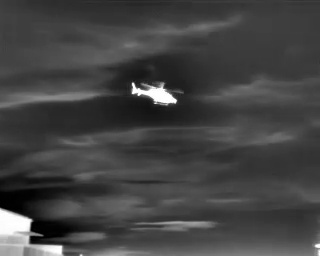HELICOPTER: (128, 75, 188, 111)
